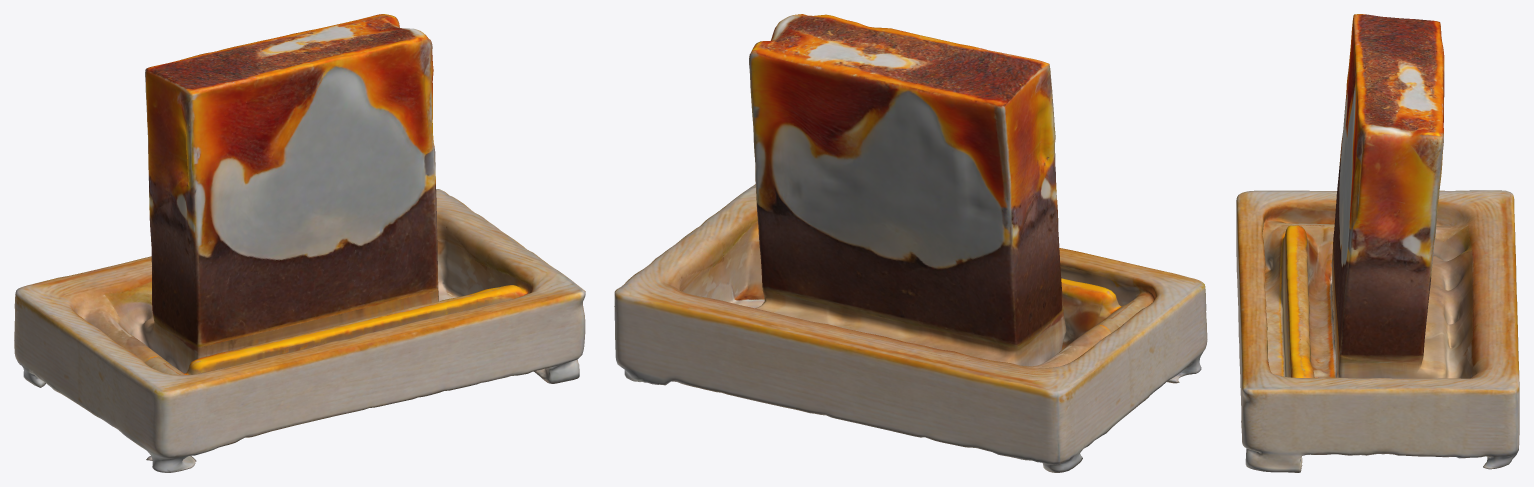
File: Mountain_Sunset_Soap_0329000930.glb
3 views of the same model, side by side, from view 1: azimuth 30°, elevation 25°; view 2: azimuth 150°, elevation 25°; view 3: azimuth 270°, elevation 25° (orthographic). The views are drawn at different scales.
Size of the model in its own units: 2 by 1.43 by 1.2.
Materials: 1 (1 with a texture image).
